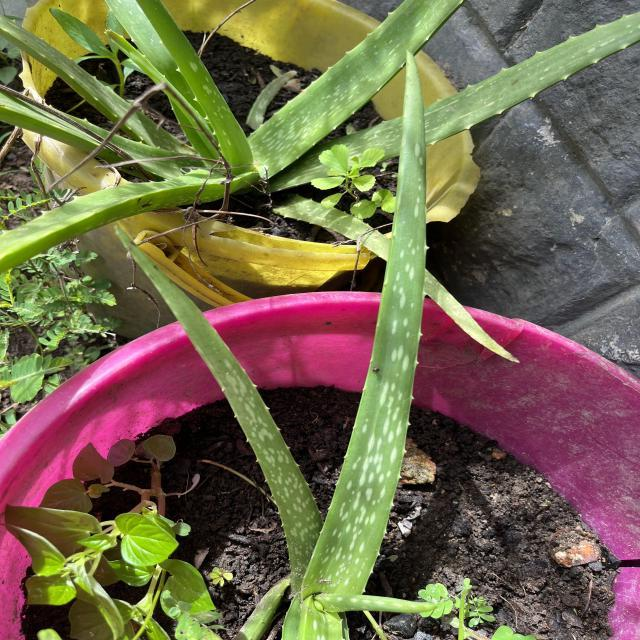Aloe vera: (295, 41, 432, 604)
